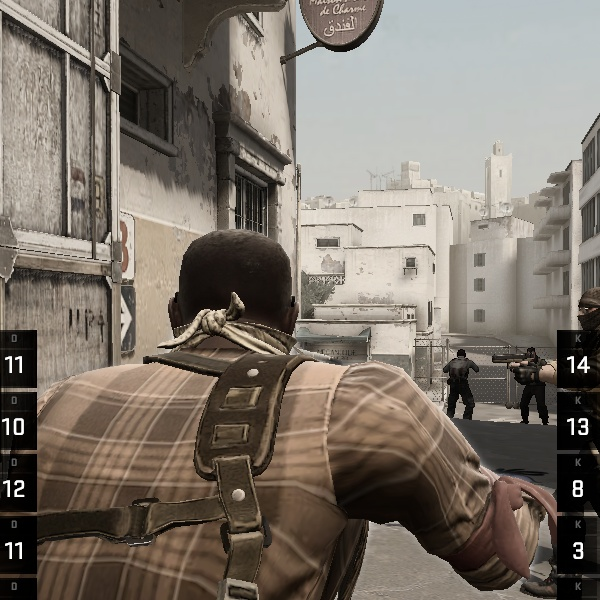t_body: (8, 232, 539, 598), (440, 345, 482, 422), (514, 345, 551, 425)
t_head: (172, 228, 298, 345), (575, 283, 599, 339), (526, 346, 537, 359), (456, 348, 466, 359)
